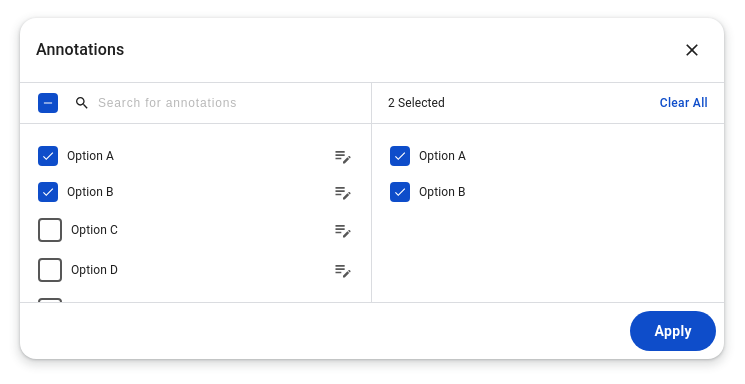
Test: FilterAnnotationsMultiSelect › selection functionality (local state) › should deselect option locally when clicking a selected item
Note: Click on Option A in left panel to deselect locally
Click the 1st text "Option A".
click(90, 156)  # box [67, 149, 114, 163]
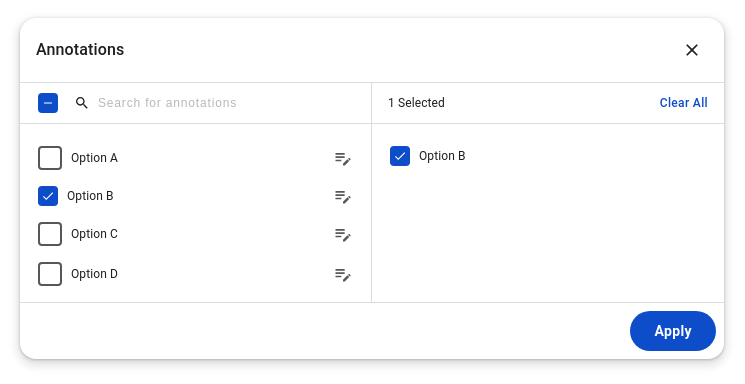
Result: the text "1 Selected" is shown at [388, 95, 445, 111]
